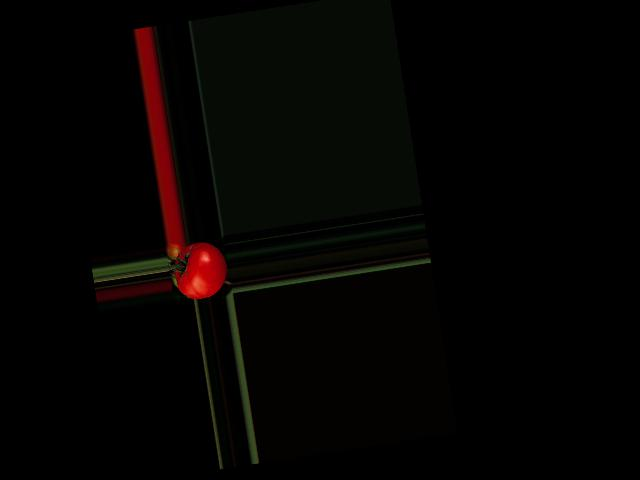tomato: (171, 239, 231, 302)
